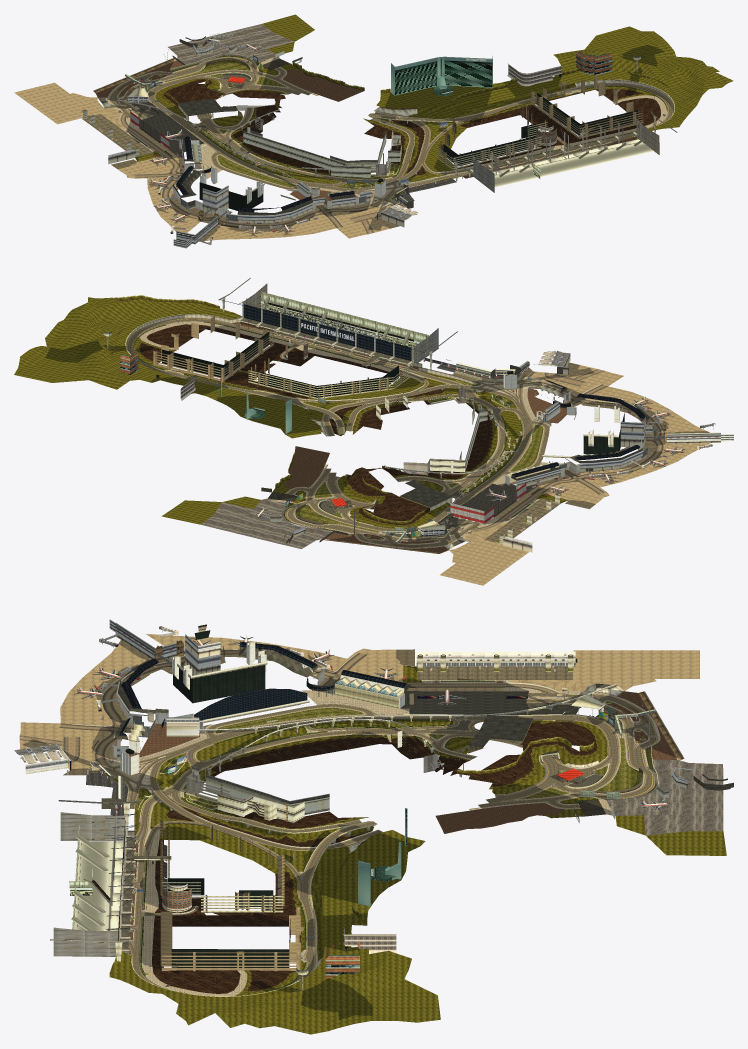
The model's file is track-B2_C1_V1.glb.
3 renders of one model, top to bottom at view 1: azimuth 30°, elevation 25°; view 2: azimuth 150°, elevation 25°; view 3: azimuth 270°, elevation 25°, orthographic. The views are drawn at different scales.
Visible parts, largest first — view 1: B2_C1_V1; view 2: B2_C1_V1; view 3: B2_C1_V1.
Boxes of the visible parts, box(x1,y1,x2,y2) form: B2_C1_V1: box(14, 14, 733, 248); B2_C1_V1: box(14, 277, 733, 585); B2_C1_V1: box(14, 619, 733, 1034).
Size of the model in its own units: 1997 by 126 by 1470.
102 materials, 102 textured.
